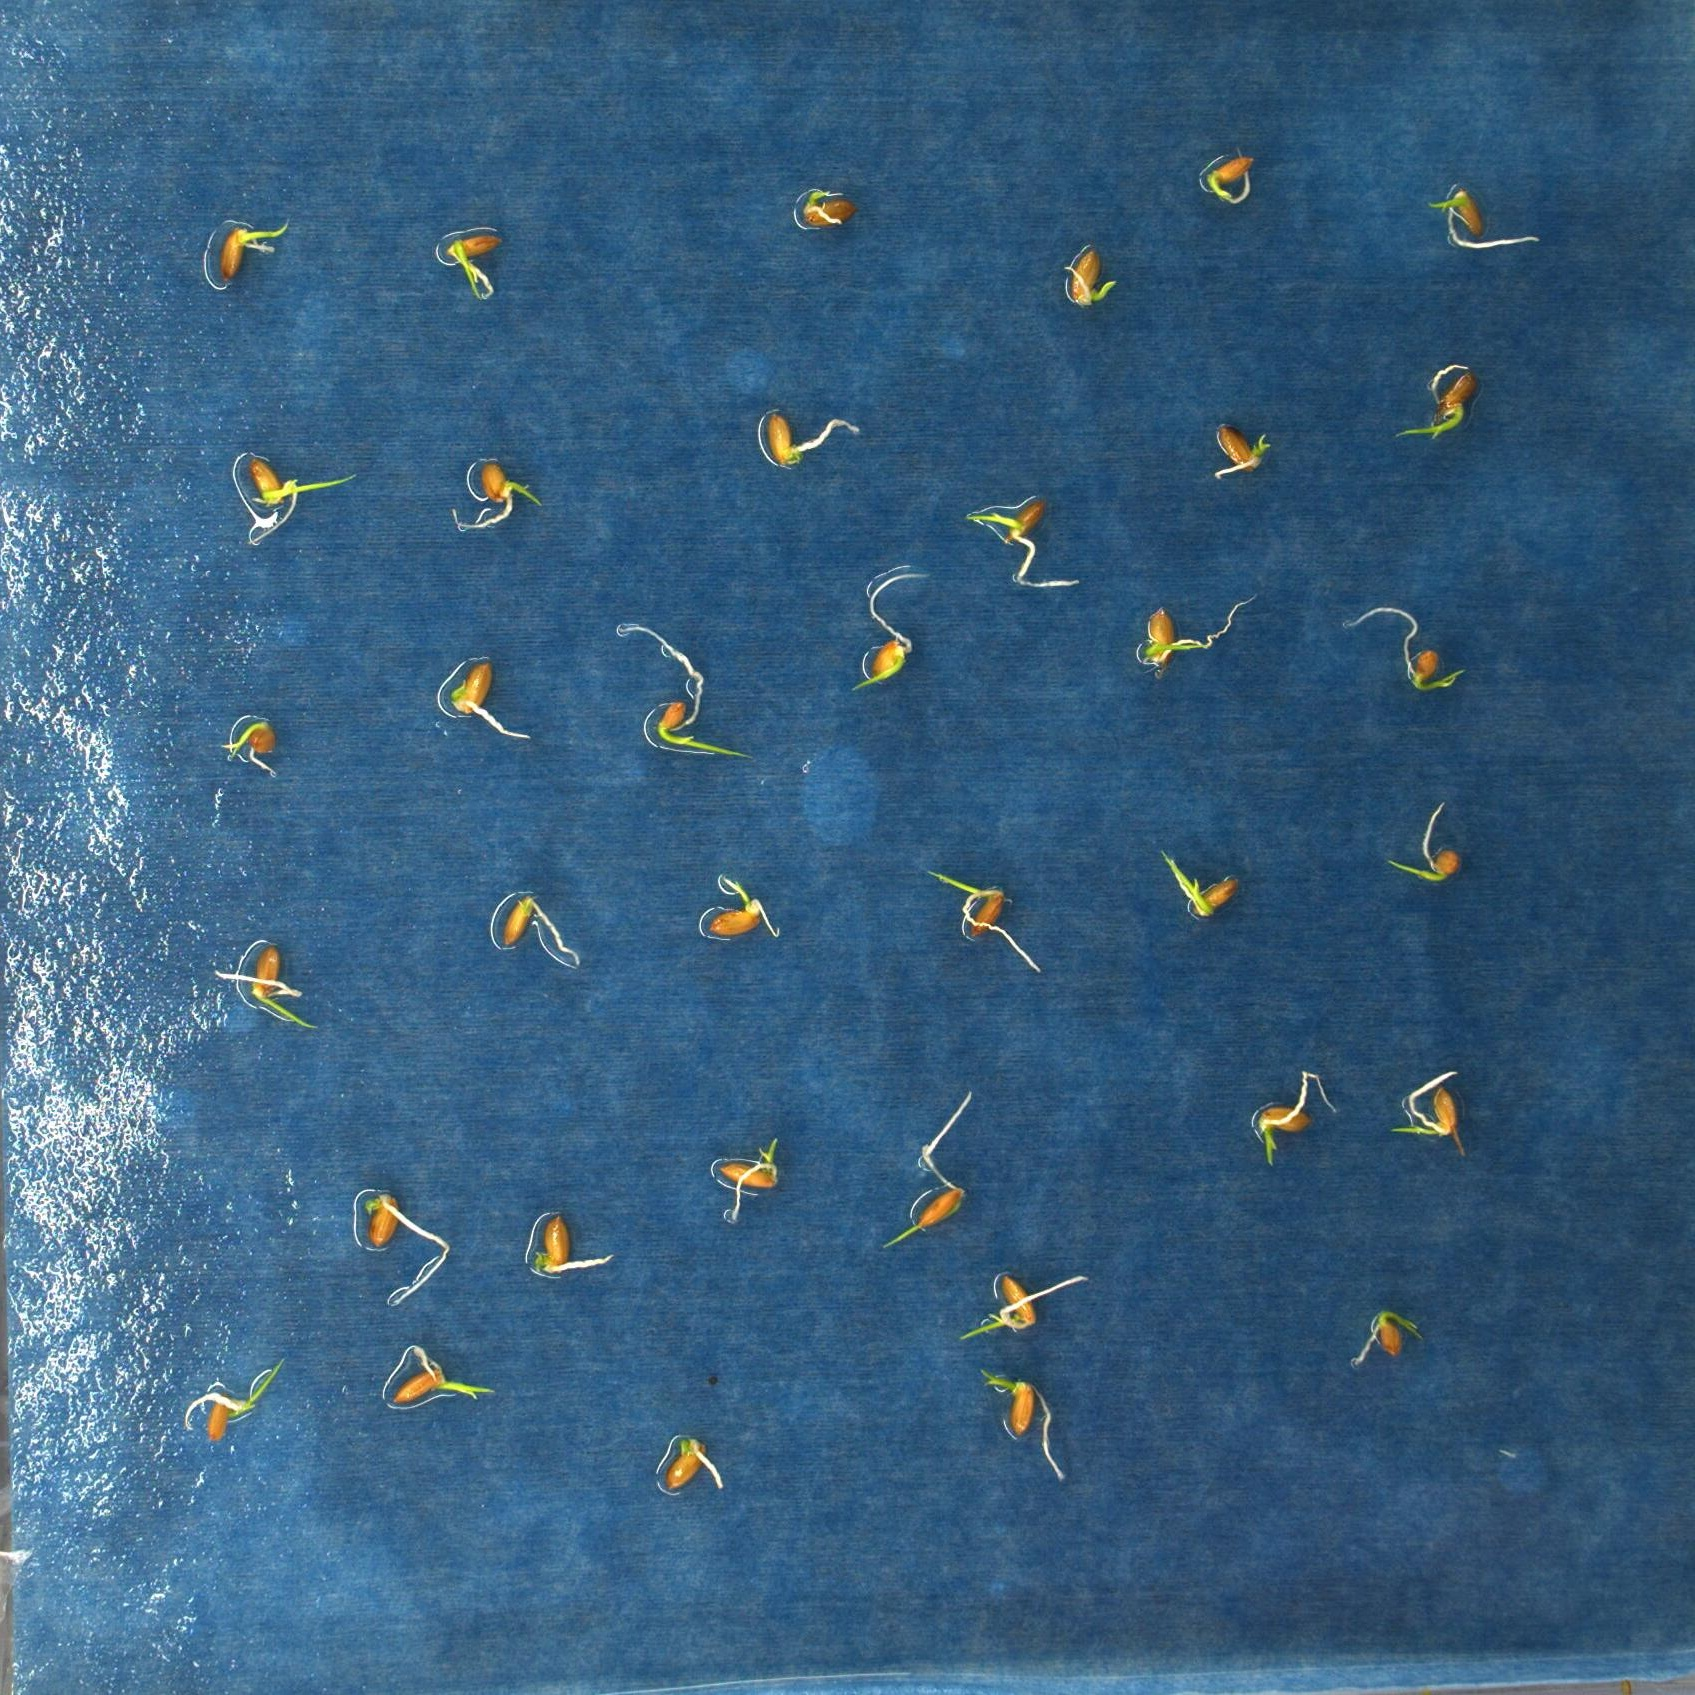not sprout: (354, 1194, 449, 1302), (452, 658, 529, 739), (761, 407, 857, 470), (501, 896, 587, 967), (536, 1215, 612, 1281), (667, 1437, 726, 1490)
sprout: (618, 626, 744, 765), (885, 1094, 975, 1256), (930, 865, 1038, 979), (234, 449, 355, 551), (976, 1363, 1068, 1482), (969, 497, 1082, 590), (1343, 612, 1461, 692), (854, 573, 931, 694), (217, 944, 320, 1032), (1254, 1073, 1336, 1169), (1132, 598, 1248, 664), (964, 1270, 1085, 1333), (1431, 180, 1541, 250), (382, 1346, 498, 1411), (186, 1364, 289, 1437), (1391, 1066, 1467, 1156), (1386, 365, 1479, 436), (1386, 801, 1462, 883), (449, 461, 542, 525), (712, 1139, 782, 1218), (703, 879, 782, 938), (1164, 851, 1237, 914), (1057, 245, 1122, 307), (224, 716, 279, 779), (1350, 1312, 1420, 1361), (447, 230, 501, 293), (222, 227, 287, 279), (1205, 147, 1260, 205), (1205, 424, 1271, 470), (799, 182, 855, 231)
